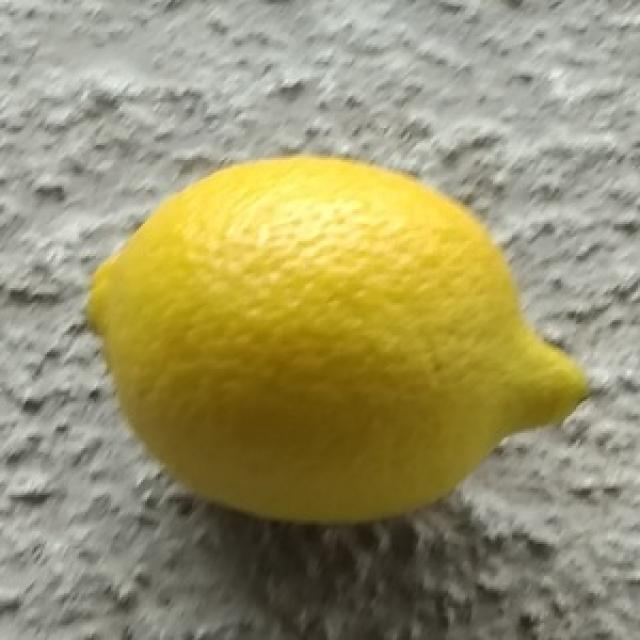Ripe: (73, 153, 595, 528)
